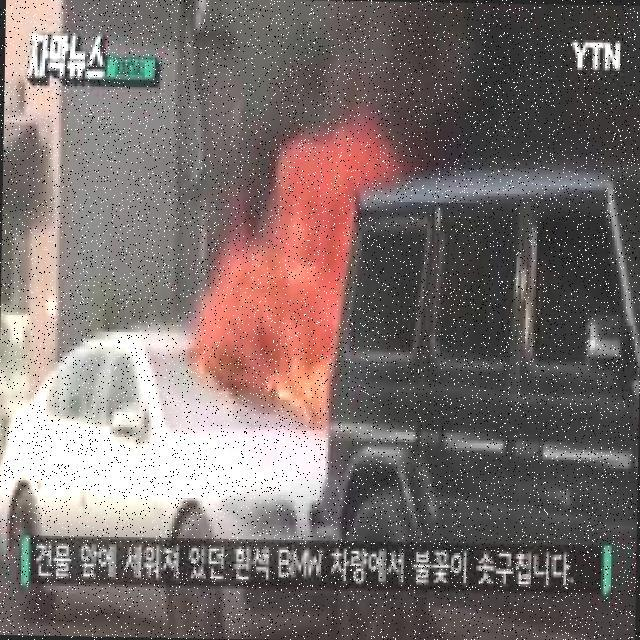Fire: (217, 131, 402, 415)
